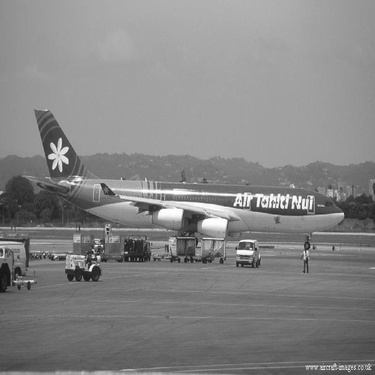airplane: (9, 97, 358, 266)
